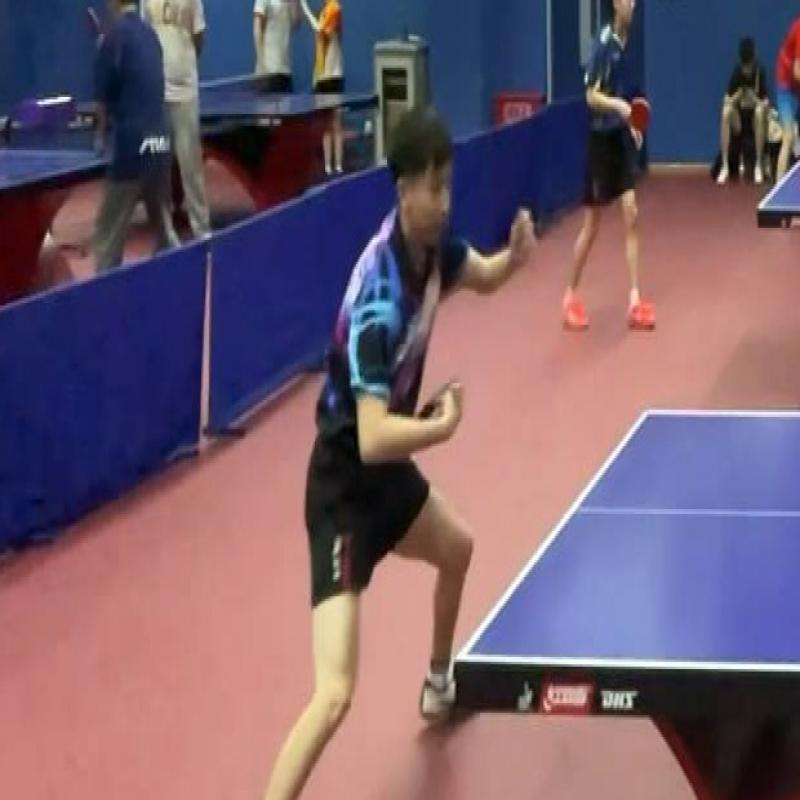bats: (414, 366, 474, 439)
